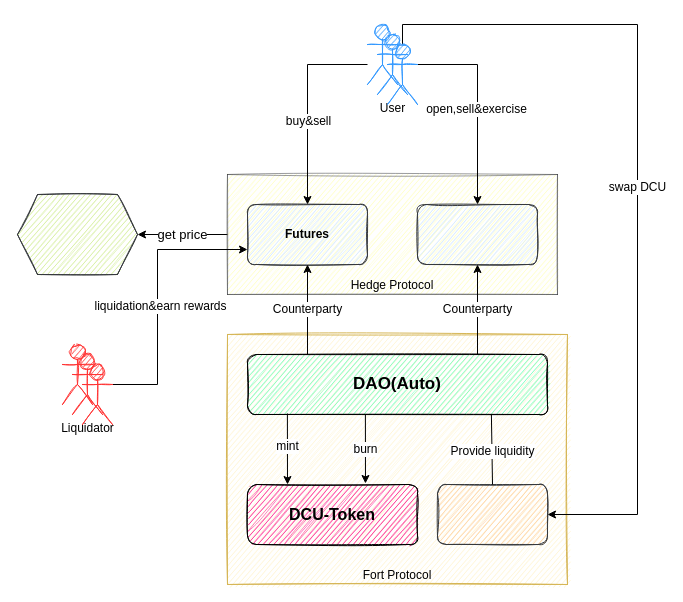
This 683x602 diagram has some shape labels left out. Each missing label, with the centre of its shape:
"Nest Oracle" belongs at [77,234].
"Options" belongs at [477,234].
"Swap" belongs at [492,514].
